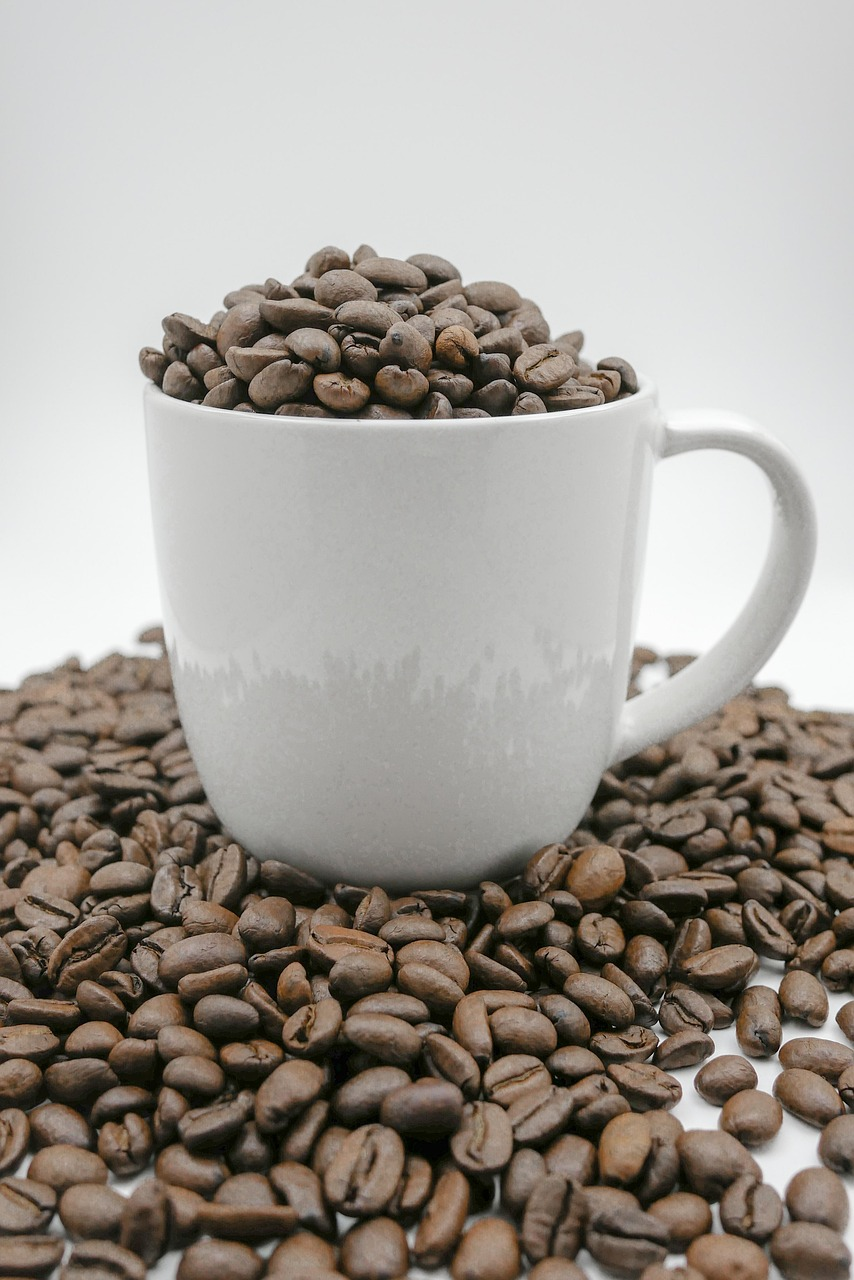mug: (98, 300, 834, 900)
